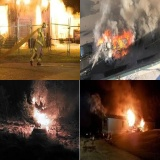fire: (98, 28, 133, 58), (49, 0, 69, 39), (33, 106, 51, 130), (0, 4, 8, 34), (127, 108, 135, 126), (35, 5, 42, 24), (139, 116, 145, 129), (20, 41, 26, 48)
